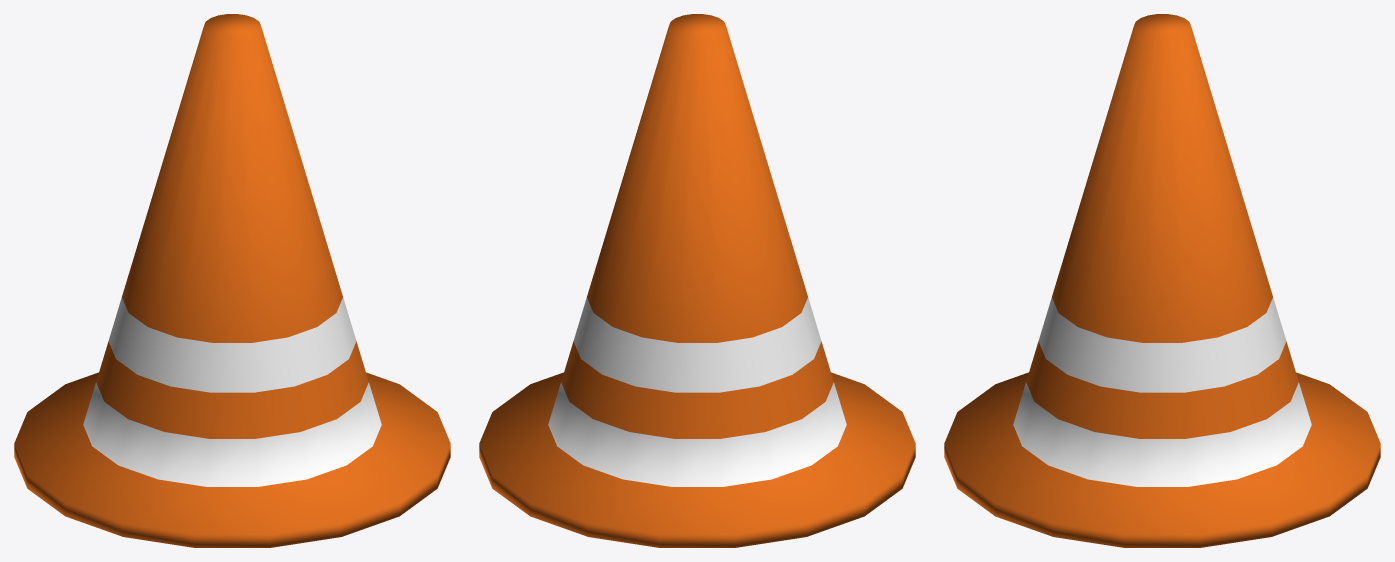
The model's file is TrafficCone.fbx.
3 renders of one model, left to right at view 1: azimuth 30°, elevation 25°; view 2: azimuth 150°, elevation 25°; view 3: azimuth 270°, elevation 25°, orthographic.
Visible parts, largest first — view 1: Circle; view 2: Circle; view 3: Circle.
Boxes of the visible parts, x1,y1,x2,y2 form: Circle: (14,14,450,547); Circle: (479,14,915,547); Circle: (944,14,1380,547).
Bounding box in the file's own units: 2.76 × 2.8 × 3.05.
